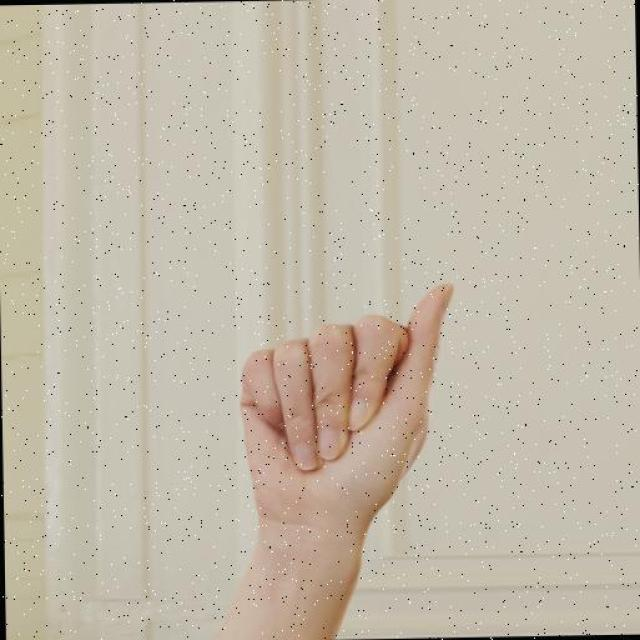A: (234, 279, 462, 536)
